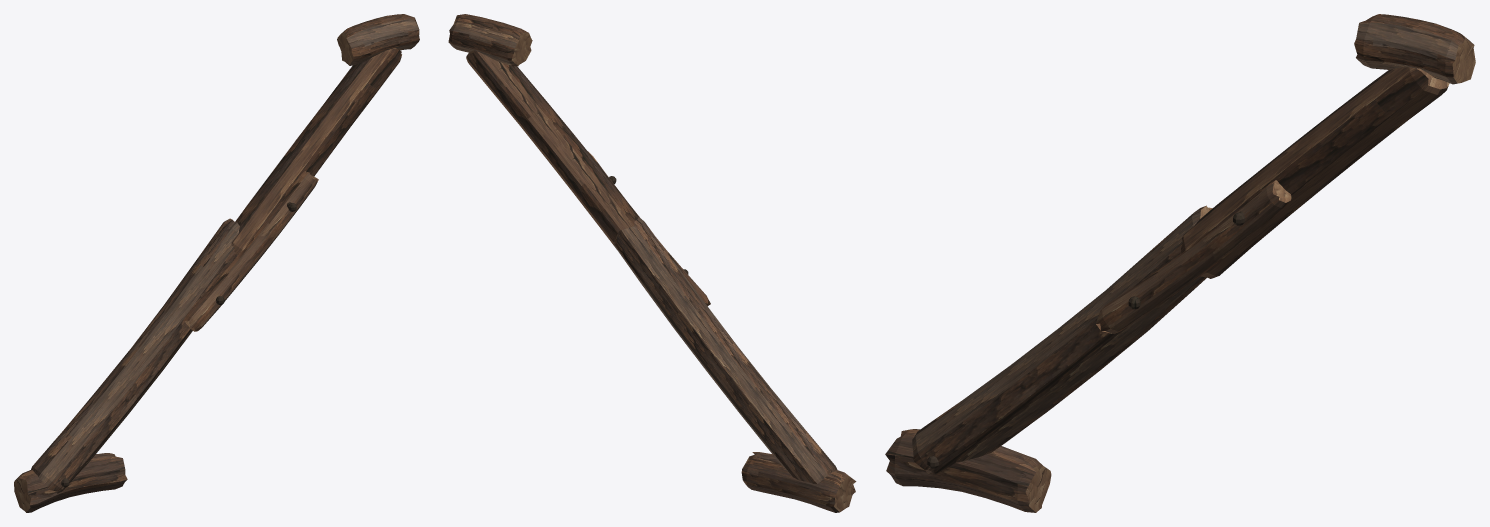
The model's file is brace_old.glb.
3 renders of one model, left to right at view 1: azimuth 30°, elevation 25°; view 2: azimuth 150°, elevation 25°; view 3: azimuth 330°, elevation 25°, orthographic. The views are drawn at different scales.
Visible parts, largest first — view 1: model; view 2: model; view 3: model.
Part boxes in pixels (x1,y1,x2,y2): model: [14, 14, 419, 512]; model: [448, 14, 856, 512]; model: [885, 14, 1475, 512].
Bounding box in the file's own units: 1.97 × 1.92 × 0.2751.
14 materials, 14 textured.
